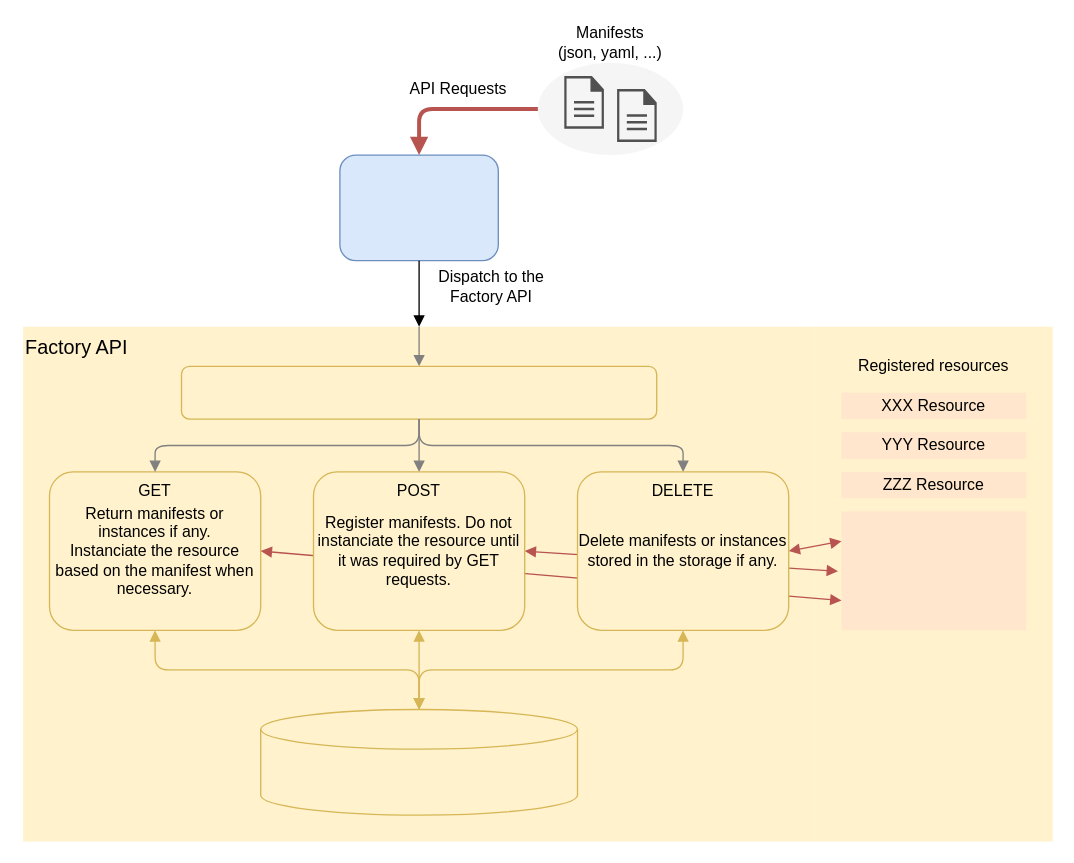
Some shapes in this 1074 by 863 pixel diagram are drawn without their labels. The shapes that lost their labels are listed below. From the top down, each one's centre as x and y in pixels, then its label:
point 418,207: API Multiplexer
point 418,392: Serve ( context.Context, *Requests ) ( *Response, error )
point 933,570: FooBar Resource
point 418,761: Storage (manifests, instances, ...)
